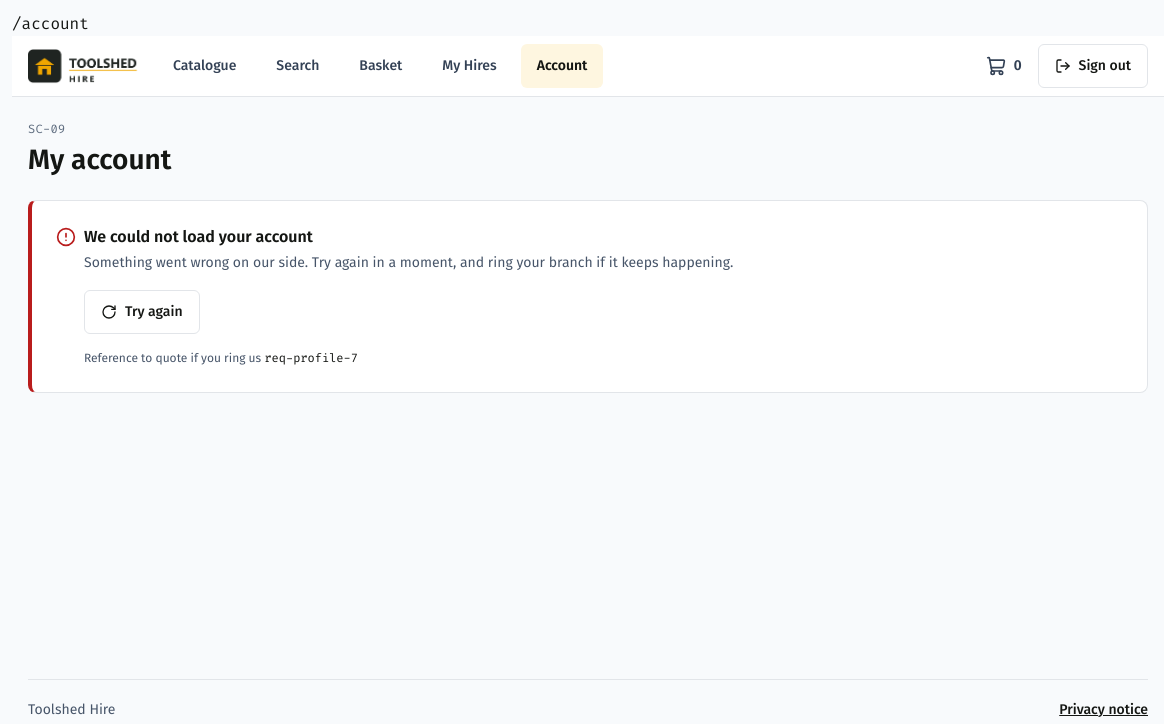
Test: when the profile fails to load › says so in plain words with the reference, and loads on a retry
Expected: the message shows "We could not load your account", [84,227,313,246]
Expected: the text "req-profile-7" is shown, [264,350,358,366]
Click the button "Try again".
click(142, 312)  # box [84,290,200,334]
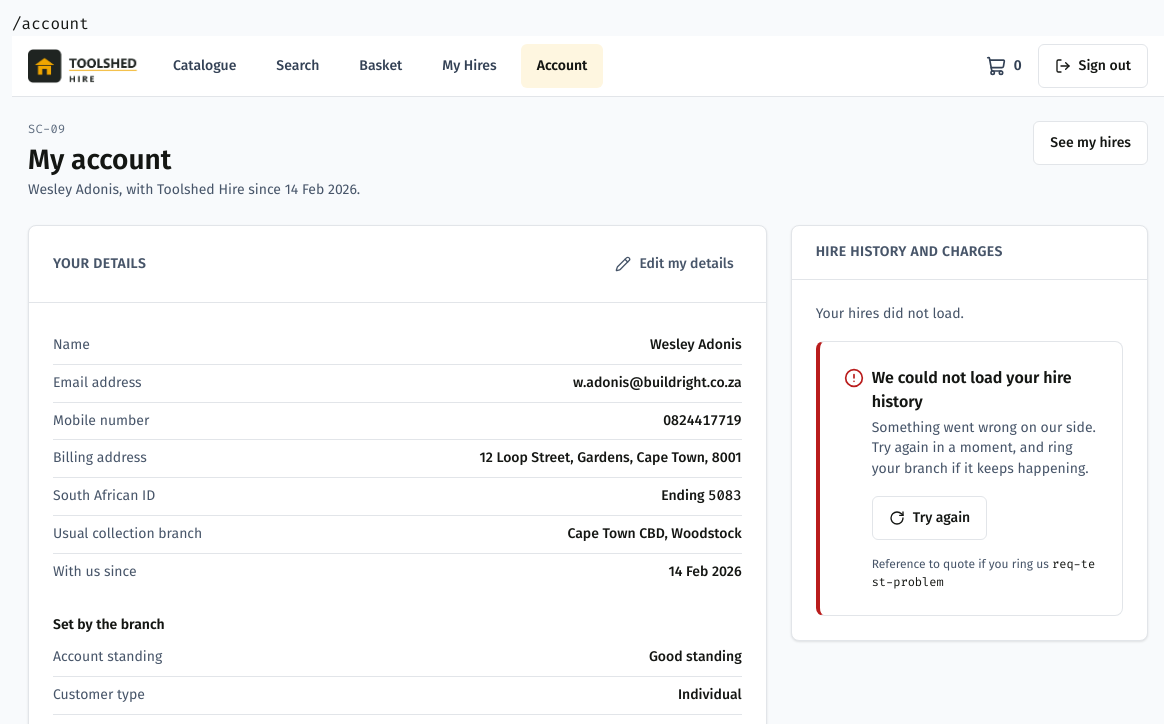
Expected: the heading "Your details" is shown, [53,254,146,274]
Expected: the text "Wesley Adonis" is shown, [650,335,742,356]
